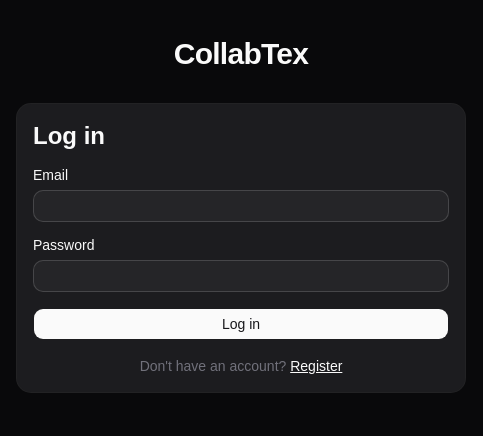
Test: LoginPage › shows server error message on API failure
Step 1. Type "a@b.com" into the field labelled "Email" → (241, 206), box [33, 190, 449, 222]
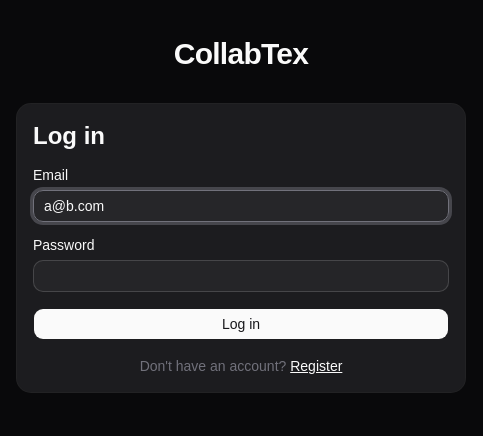
Step 2. Type "wrong" into the password field labelled "Password" → (241, 276), box [33, 260, 449, 292]
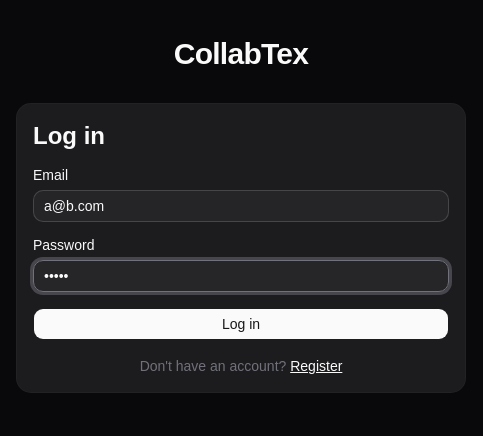
Step 3. Click the button "Log in" → (241, 324), box [33, 308, 449, 340]
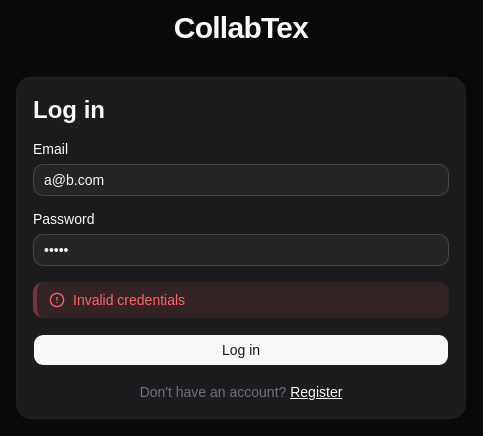
Expected: the message reads "Invalid credentials", [73, 292, 185, 308]
